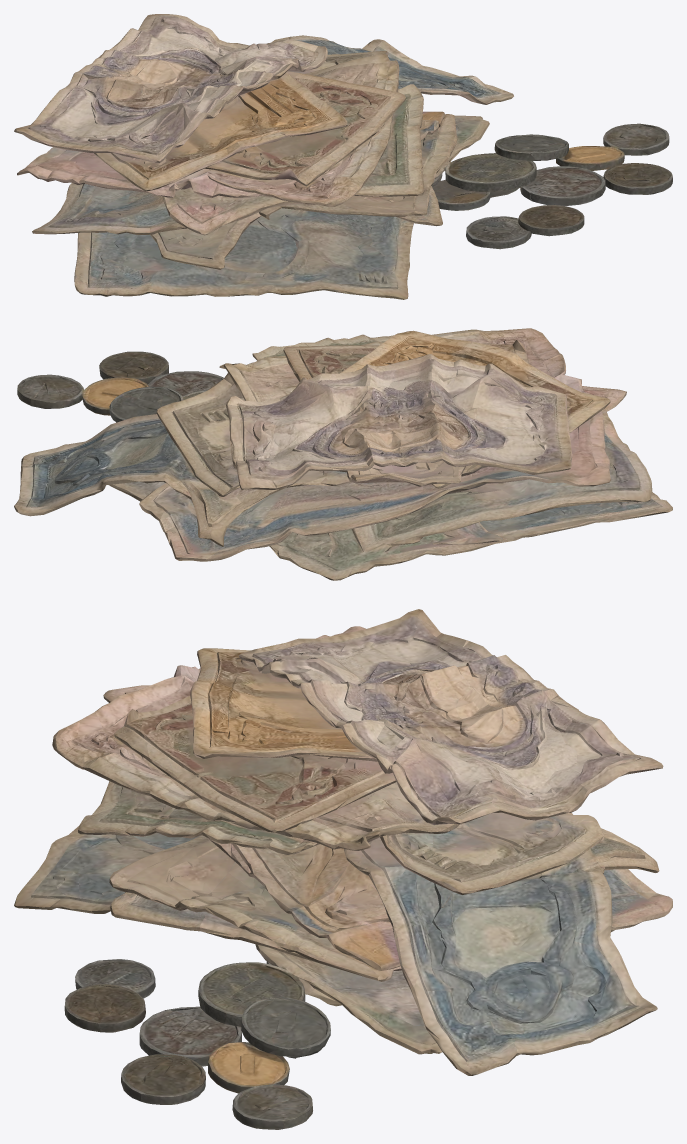
File: soldi.glb
3 views of the same model, one above another, from view 1: azimuth 30°, elevation 25°; view 2: azimuth 150°, elevation 25°; view 3: azimuth 270°, elevation 25° (orthographic). The views are drawn at different scales.
Visible parts, largest first — view 1: Mesh_0; view 2: Mesh_0; view 3: Mesh_0.
Boxes of the visible parts, x1,y1,x2,y2 form: Mesh_0: (14, 14, 672, 299); Mesh_0: (14, 328, 672, 580); Mesh_0: (14, 609, 672, 1129).
Size of the model in its own units: 1.9 by 0.4235 by 1.34.
1 material, 1 textured.
